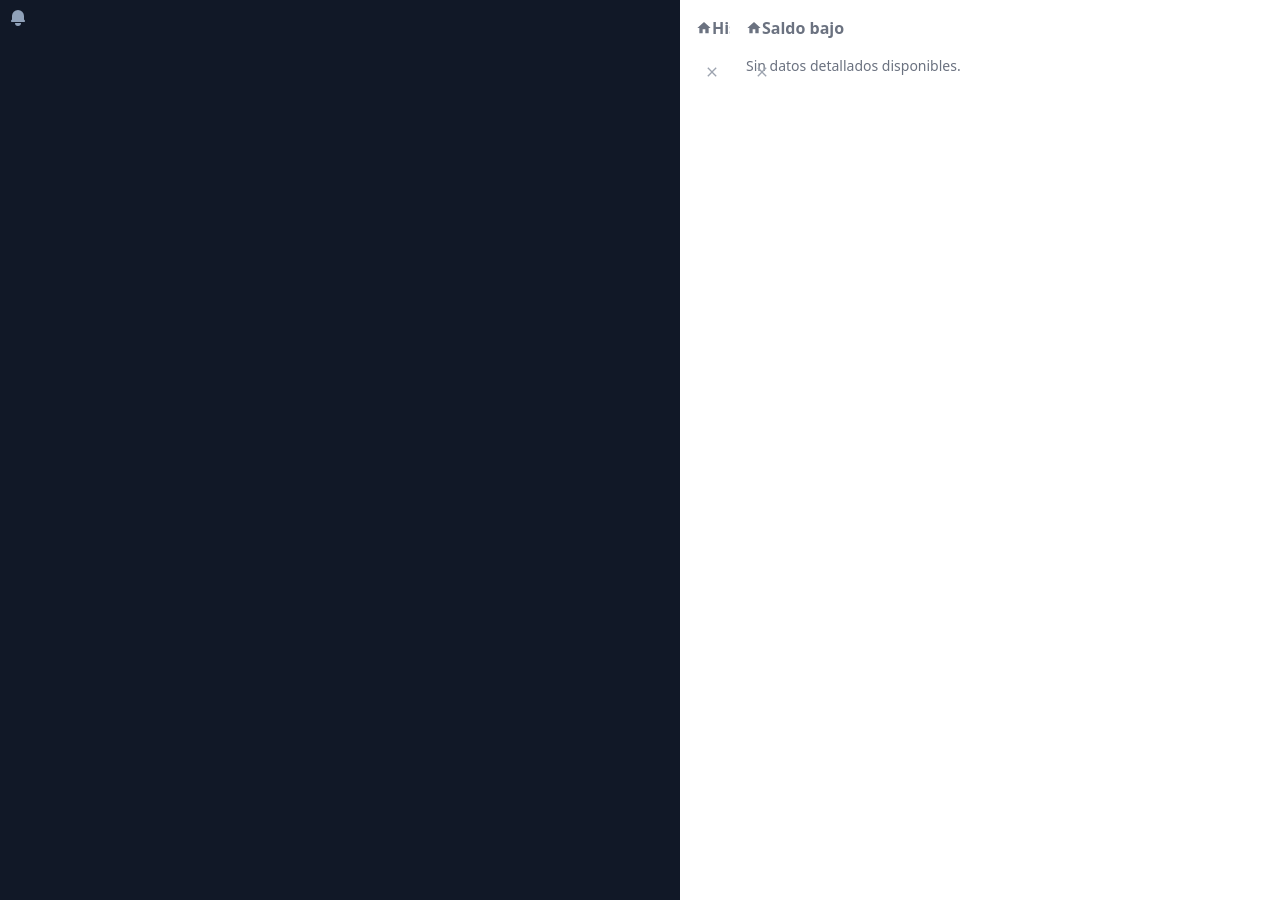
Test: NotificationBell › shows empty state when no notifications
Step 1. Click the 1st button → (18, 18), box [0,0,36,36]
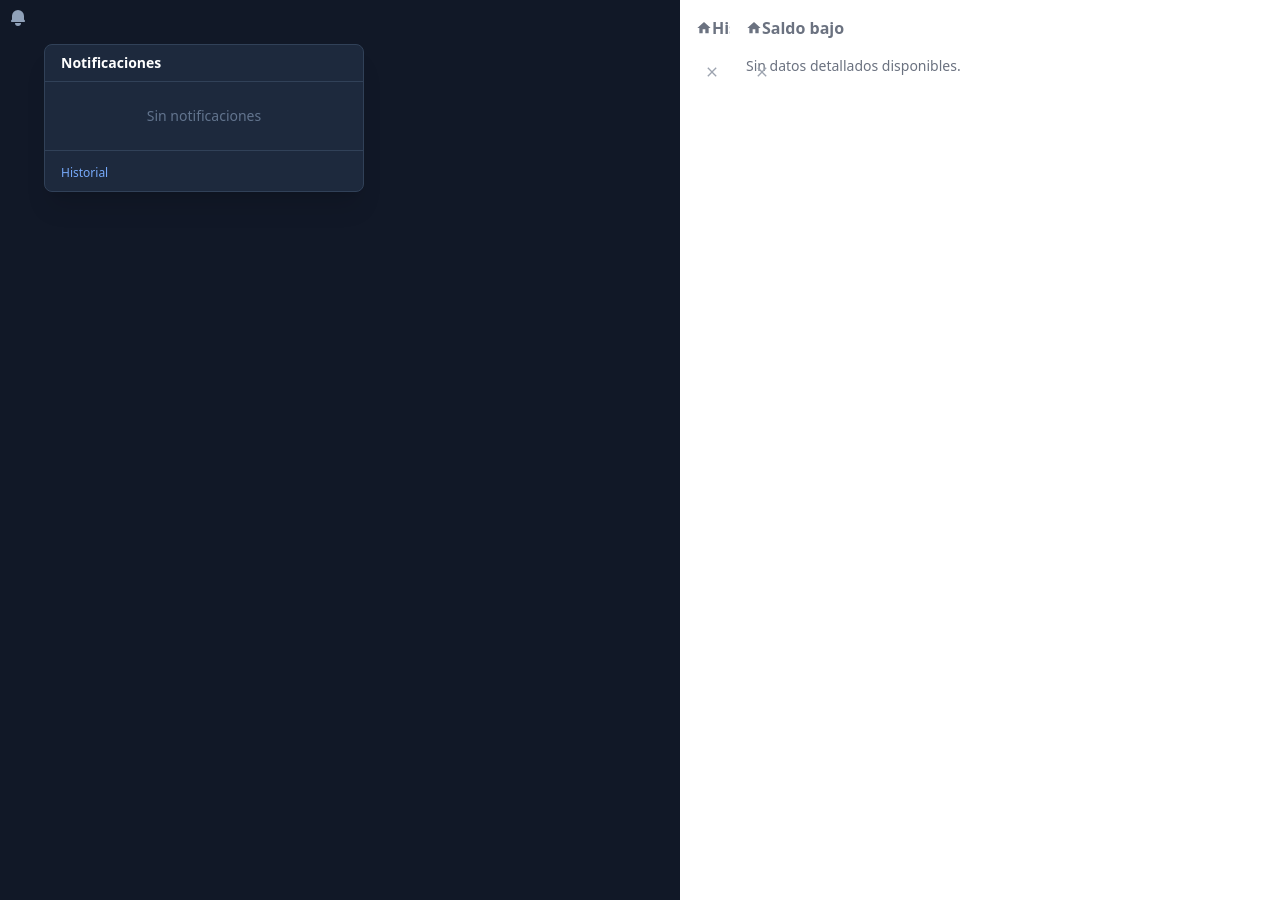
Expected: the text "Sin notificaciones" is shown, [147,106,261,125]
